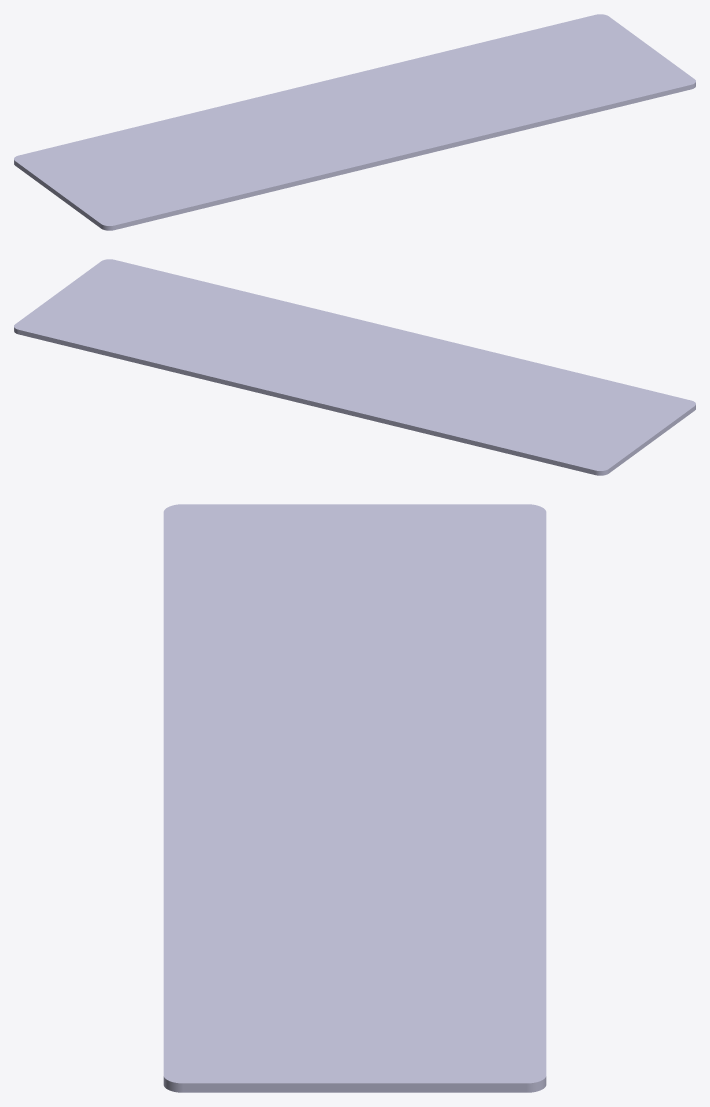
Rendered from Keyboard-BackCoverPad.gltf.
The picture shows the model from 3 angles, top to bottom: view 1: azimuth 30°, elevation 25°; view 2: azimuth 150°, elevation 25°; view 3: azimuth 270°, elevation 25°; orthographic projection. The views are drawn at different scales.
Visible parts, largest first — view 1: BackCover; view 2: BackCover; view 3: BackCover.
Boxes of the visible parts, x1=… form: BackCover: x1=14, y1=14, x2=695, y2=230; BackCover: x1=14, y1=259, x2=695, y2=475; BackCover: x1=163, y1=504, x2=546, y2=1092.
Size of the model in its own units: 0.1325 by 0.001 by 0.037.
